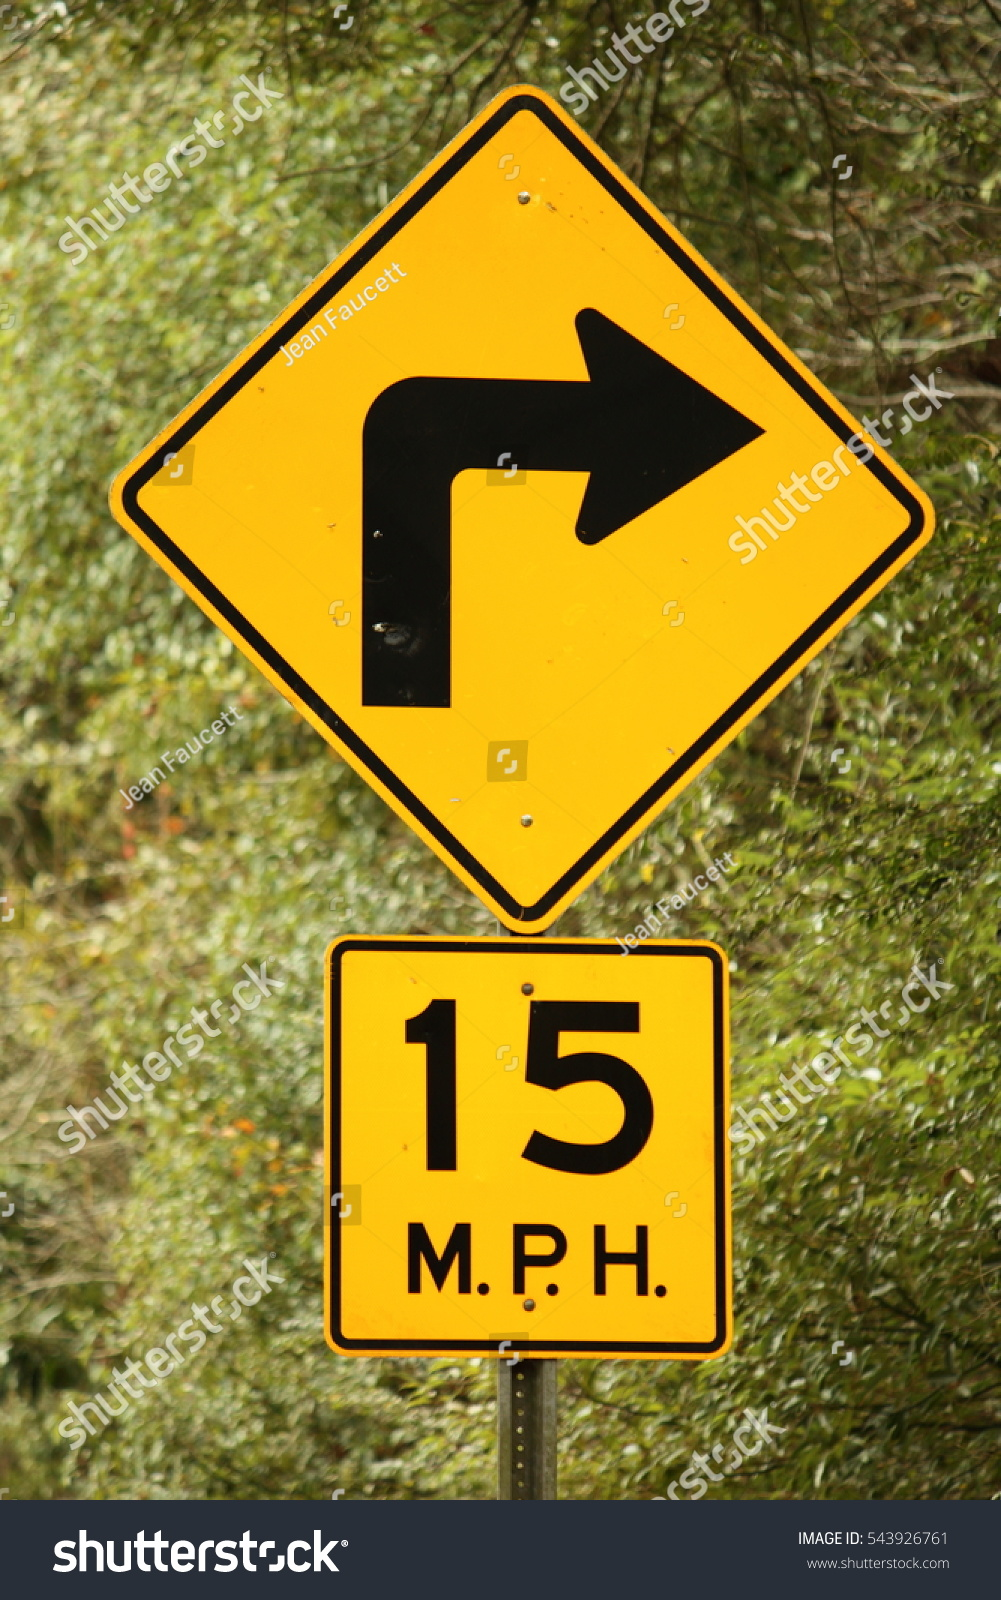right: (103, 78, 941, 938)
